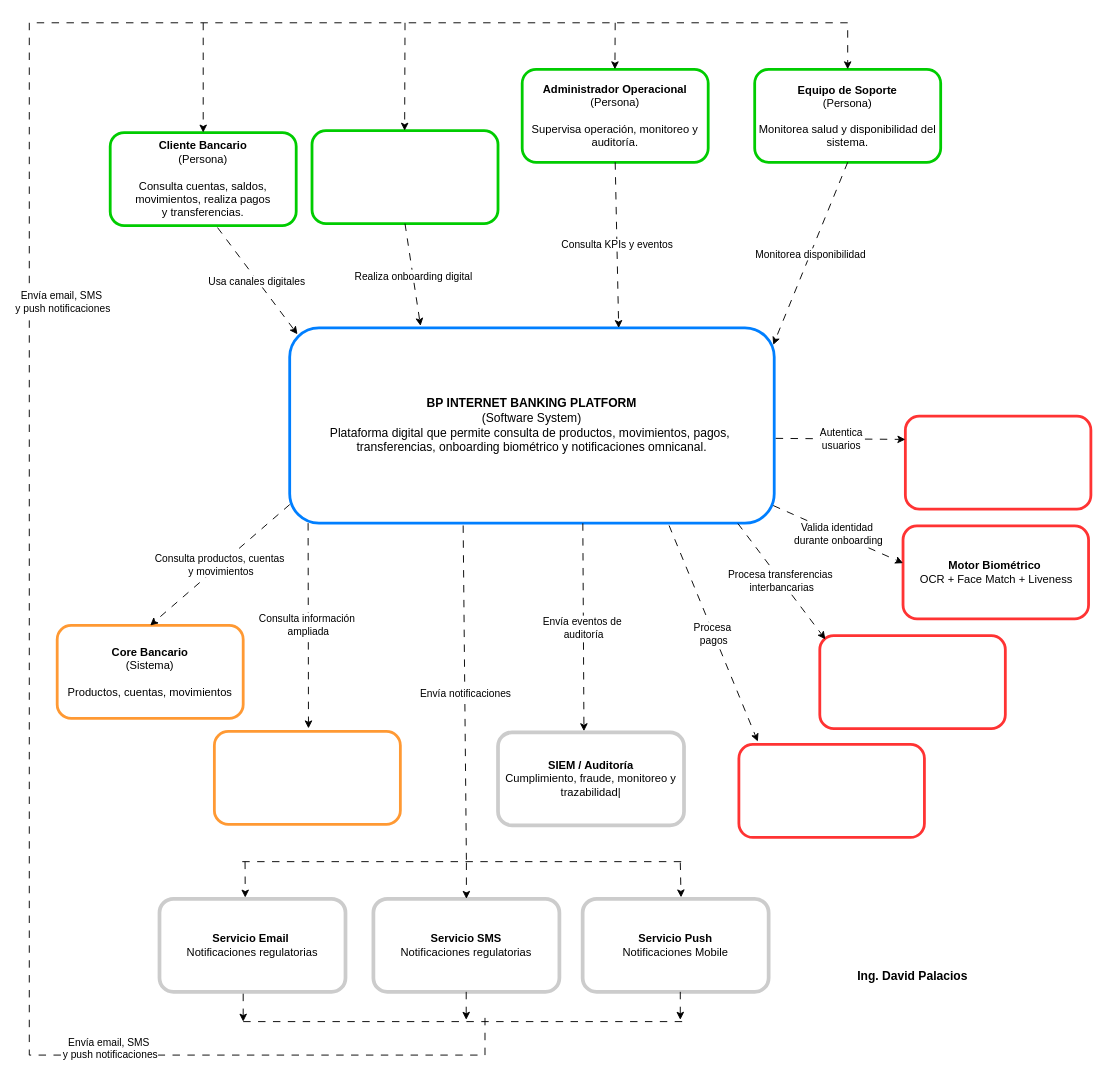
Image size: 1109x1089. Some labels were removed from this diagram. Each missing label, with the centre of its shape:
ACH / BCE Interbancario Transferencias N acionales: point 912,682
Identity Provider OAuth2/OIDC MFA, PKCE: point 997,462
Nuevo Cliente (Persona) Realiza onboarding digital.: point 404,177
Pasarela de Pagos Pagos externos y convenios: point 831,790
Sistema Cliente Complementario Información ampliada: point 307,777
